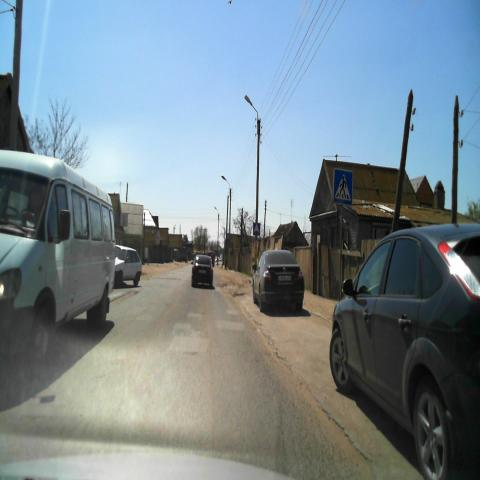5_19_1: (333, 169, 353, 206)
5_20: (252, 222, 260, 234)
